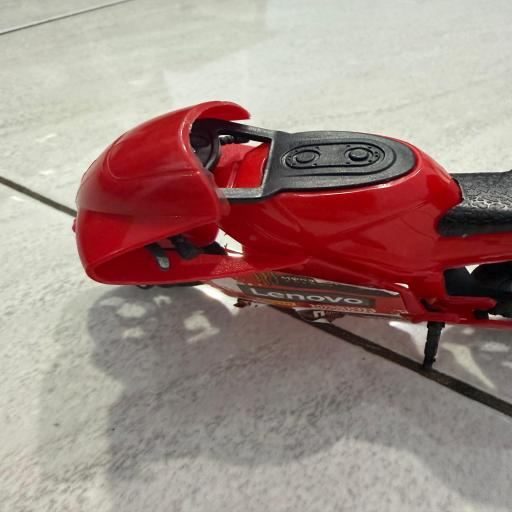motor-merah: (67, 91, 512, 376)
